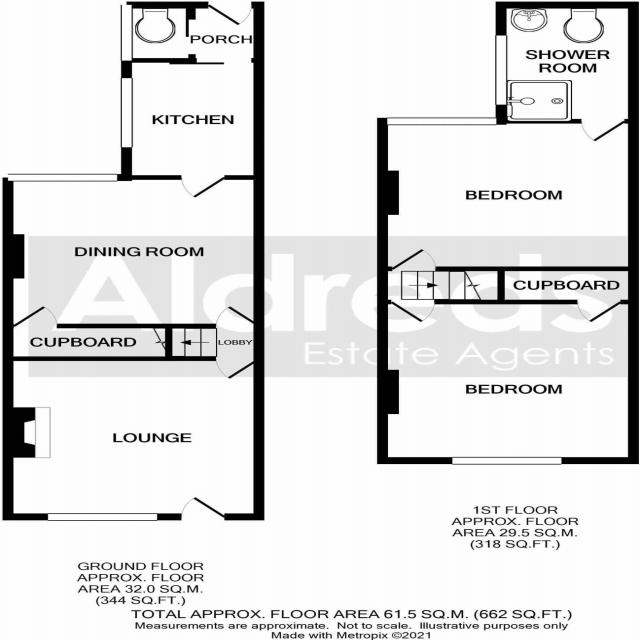DOOR: (200, 1, 259, 27), (211, 301, 265, 328), (572, 299, 628, 325), (386, 299, 441, 325), (213, 356, 265, 382), (177, 175, 230, 200), (579, 119, 630, 144), (386, 247, 439, 271), (15, 303, 62, 329), (179, 495, 227, 520)
ROOM: (376, 299, 640, 464), (2, 355, 264, 520), (0, 173, 265, 331), (377, 117, 640, 271)
WINDOW: (447, 455, 565, 467), (491, 33, 509, 107), (118, 77, 136, 149), (384, 116, 499, 127), (4, 173, 120, 183), (117, 3, 136, 63), (46, 512, 159, 522)
